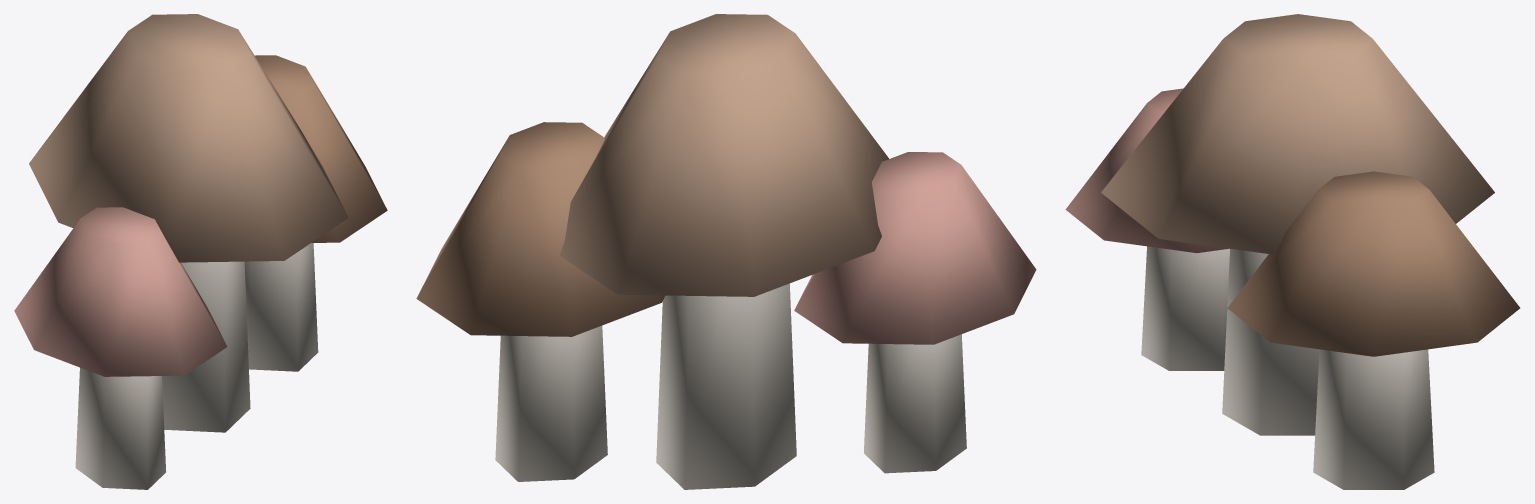
File: mushroom.glb
The picture shows the model from 3 angles, left to right: view 1: azimuth 30°, elevation 25°; view 2: azimuth 150°, elevation 25°; view 3: azimuth 270°, elevation 25°; orthographic projection. The views are drawn at different scales.
Visible parts, largest first — view 1: mushroom; view 2: mushroom; view 3: mushroom.
Boxes of the visible parts, x1=… form: mushroom: x1=14, y1=14, x2=387, y2=489; mushroom: x1=416, y1=14, x2=1036, y2=489; mushroom: x1=1065, y1=14, x2=1520, y2=489.
Size of the model in its own units: 0.24 by 0.2 by 0.22.
